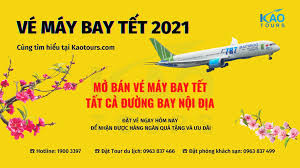maybay_dansu: (144, 33, 282, 70)
